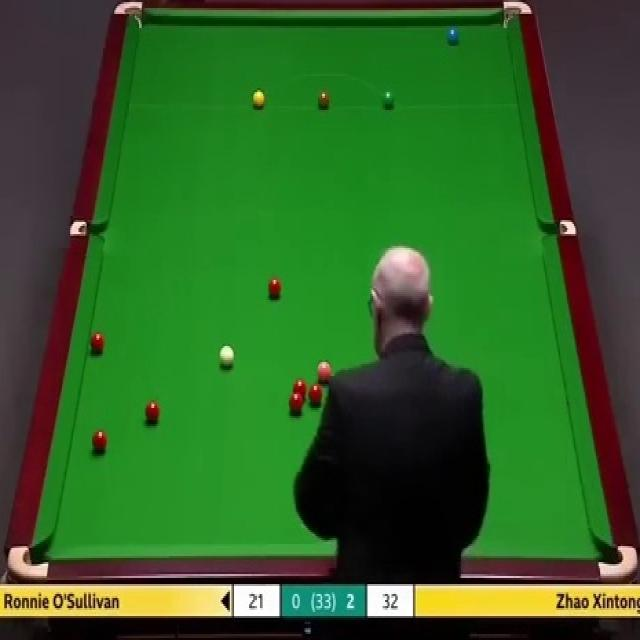pocket: (595, 542, 640, 582), (7, 541, 50, 577), (109, 0, 147, 29), (500, 1, 532, 34), (70, 218, 108, 236), (540, 221, 577, 237)
